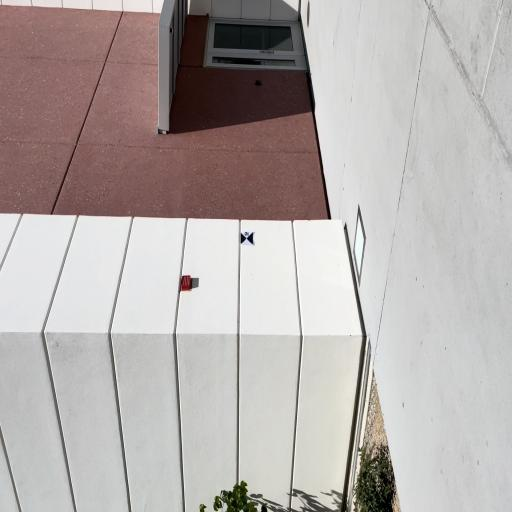target9: (240, 231, 253, 246)
